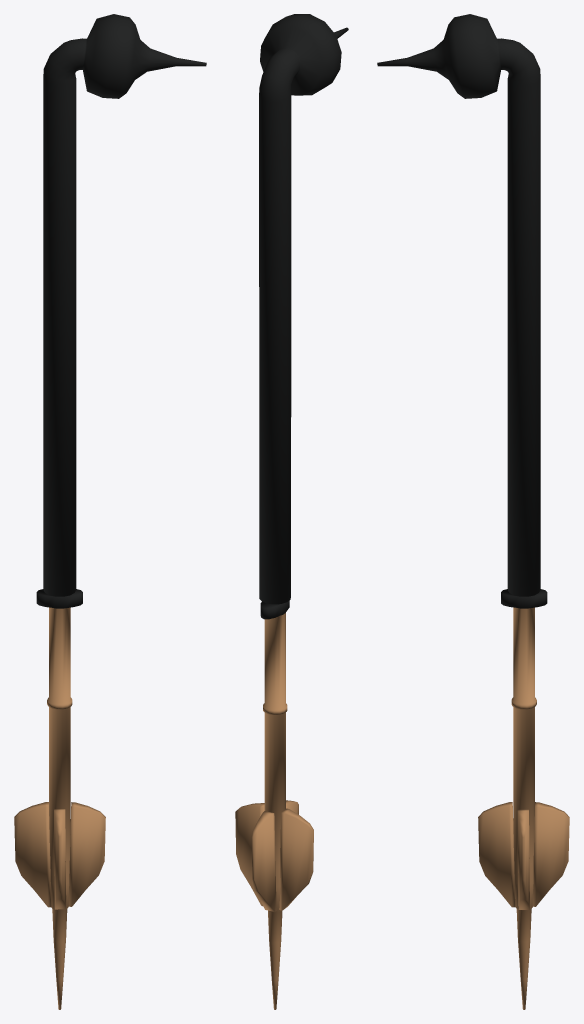
File: AuthenticTuskanRaiderStaff.fbx
The picture shows the model from 3 angles, left to right: view 1: azimuth 90°, elevation 25°; view 2: azimuth 150°, elevation 25°; view 3: azimuth 270°, elevation 25°; orthographic projection.
Visible parts, largest first — view 1: Cylinder; view 2: Cylinder; view 3: Cylinder.
Boxes of the visible parts, x1,y1,x2,y2 form: Cylinder: (14,14,206,1009); Cylinder: (235,14,348,1009); Cylinder: (377,14,569,1009).
Size of the model in its own units: 42.63 by 509 by 89.59.
